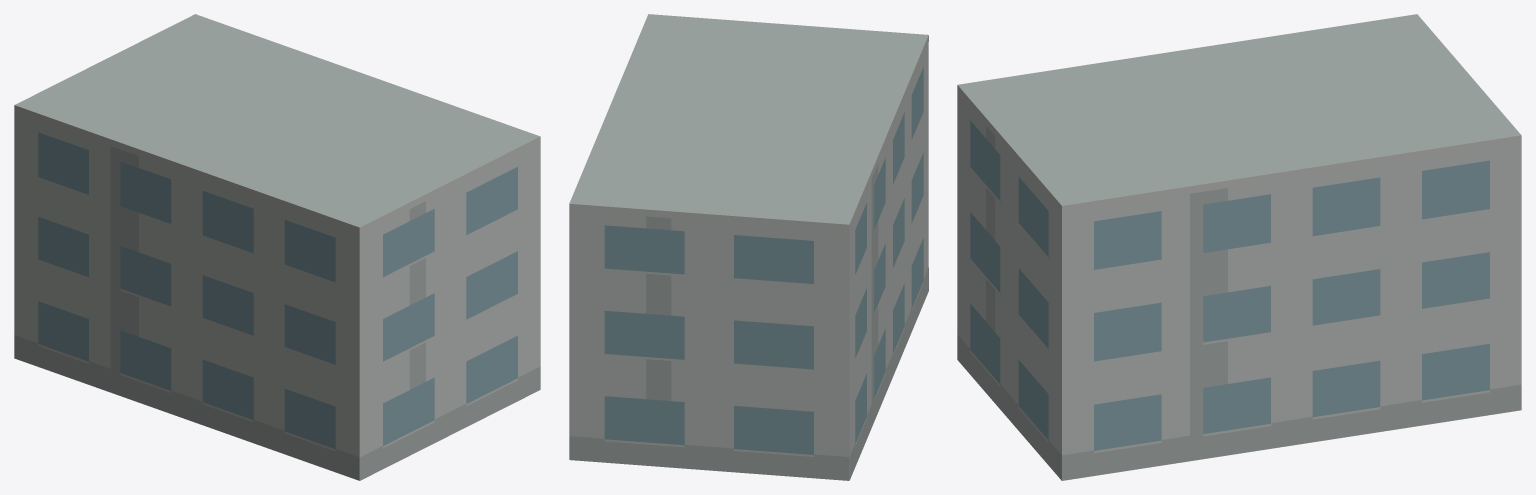
The model's file is residential-8c87eda2-da98-442d-b219-28ce7f171211.glb.
3 renders of one model, left to right at view 1: azimuth 30°, elevation 25°; view 2: azimuth 150°, elevation 25°; view 3: azimuth 270°, elevation 25°, orthographic. The views are drawn at different scales.
Parts seen in each view (by area): view 1: residential-8c87eda2-da98-442d-b219-28ce7f171211.tmp; view 2: residential-8c87eda2-da98-442d-b219-28ce7f171211.tmp; view 3: residential-8c87eda2-da98-442d-b219-28ce7f171211.tmp.
Part boxes in pixels (left/top/right/bottom): residential-8c87eda2-da98-442d-b219-28ce7f171211.tmp: left=14, top=14, right=540, bottom=480; residential-8c87eda2-da98-442d-b219-28ce7f171211.tmp: left=569, top=14, right=928, bottom=480; residential-8c87eda2-da98-442d-b219-28ce7f171211.tmp: left=957, top=14, right=1521, bottom=480.
Size of the model in its own units: 13.49 by 9 by 16.75.
